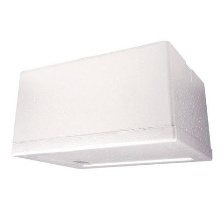foam_box: (6, 37, 216, 174)
